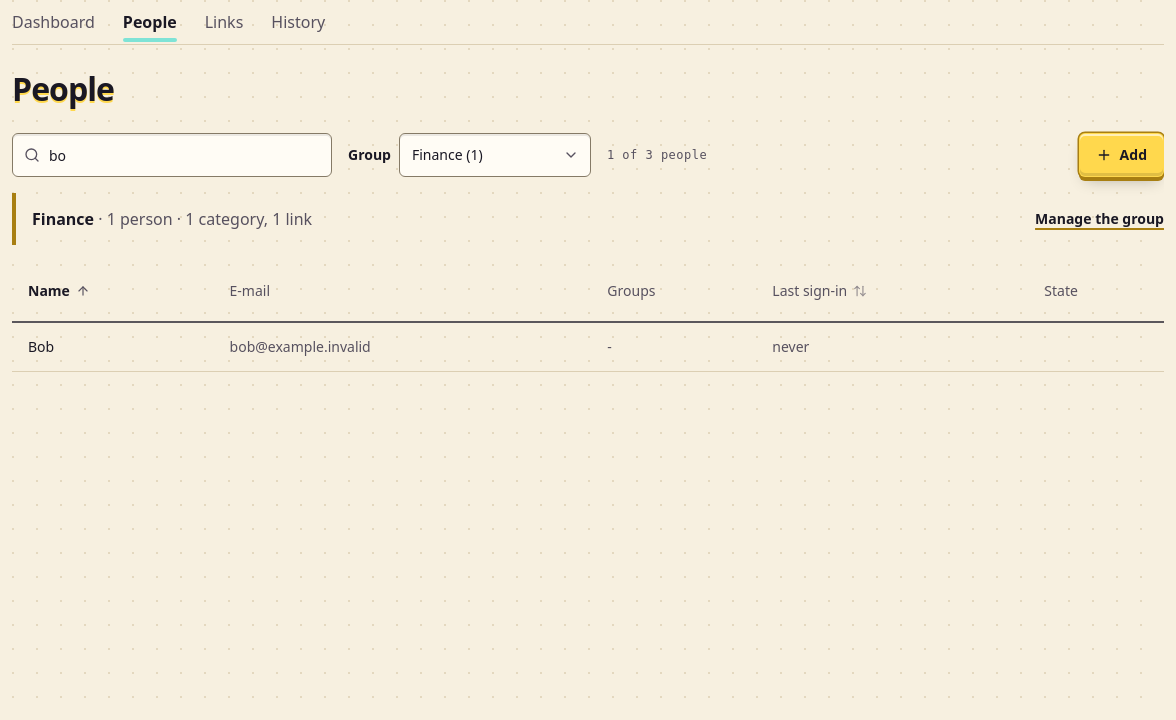
Test: GroupPage › goes back to the list it was opened from after a deletion, the text filter kept and the group filter dropped
The image size is (1176, 720).
Step 1. Click the link "Manage the group" → (1100, 218), box [1035,209,1164,228]
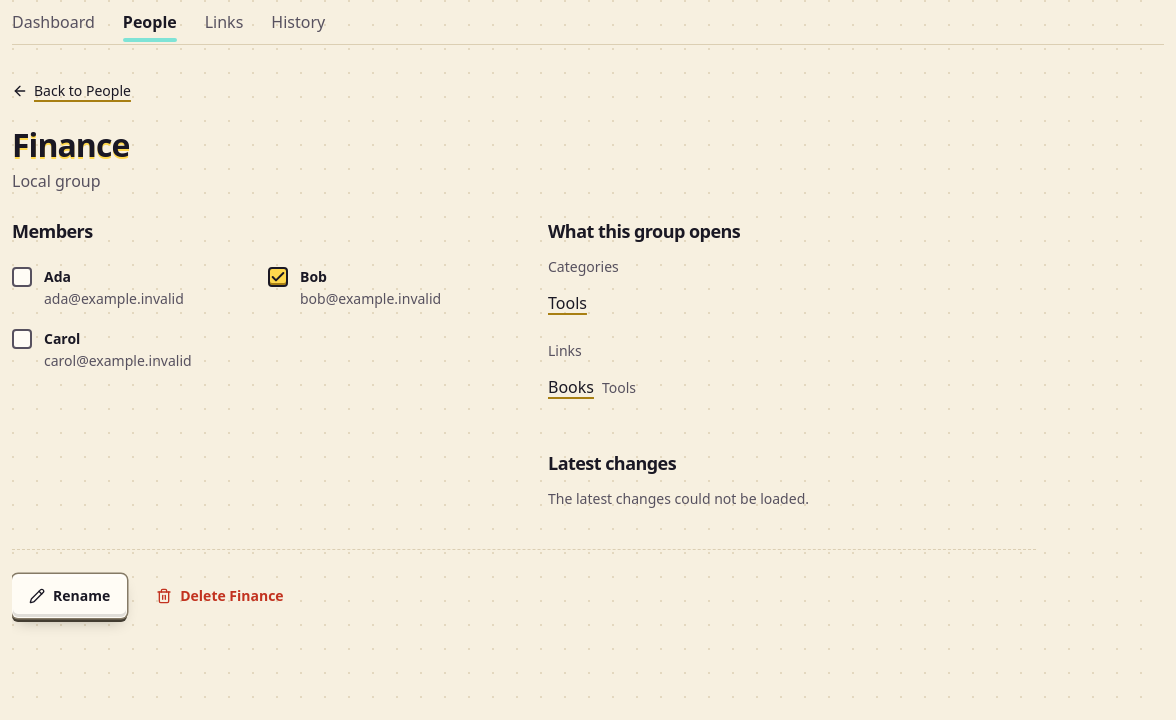
Result: the heading "Finance" is shown at [12,125,129,165]
Step 2. Click the button "Delete Finance" → (220, 596), box [139,574,301,618]
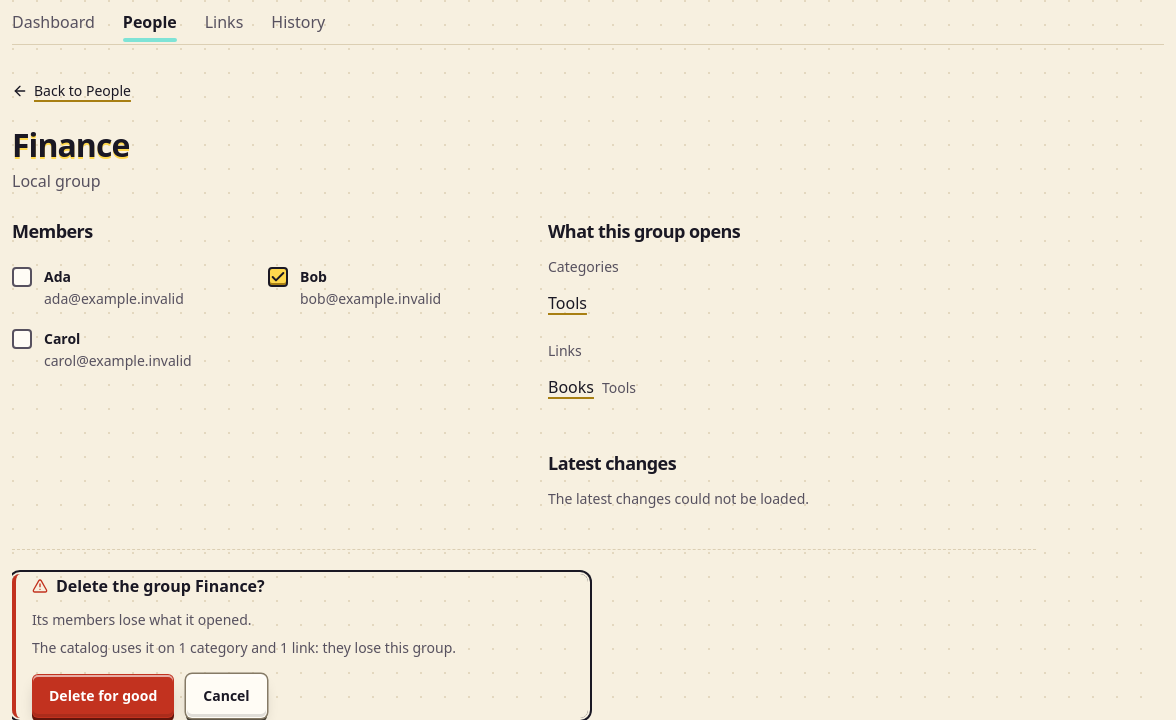
Step 3. Click the button "Delete for good" → (103, 696), box [32,674,174,718]
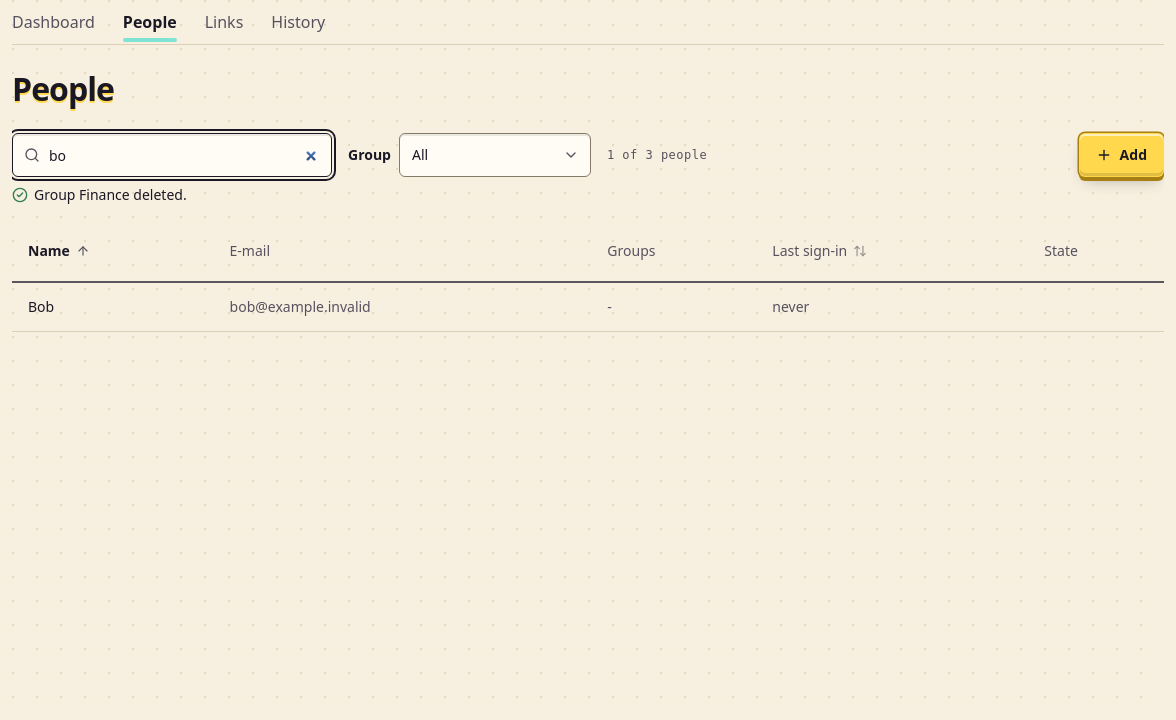
Result: the search field named "Filter by name or e-mail" holds "bo" at [12,133,332,177]
